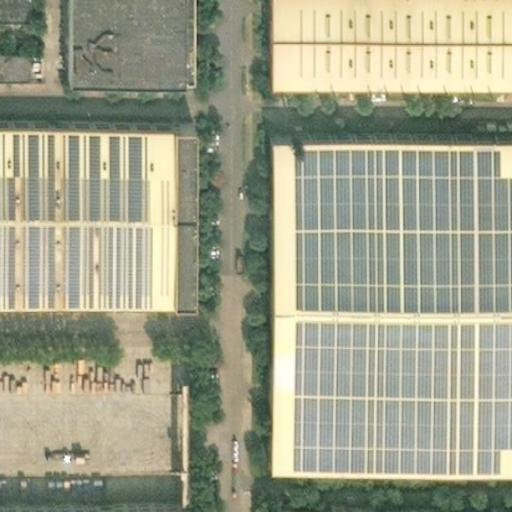building: (261, 117, 512, 452), (0, 100, 181, 278), (262, 0, 512, 65), (262, 488, 512, 512), (0, 40, 16, 69)
